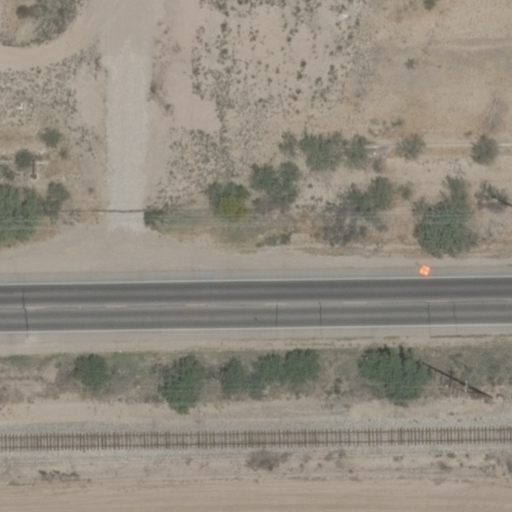DT: (444, 369, 494, 401)
